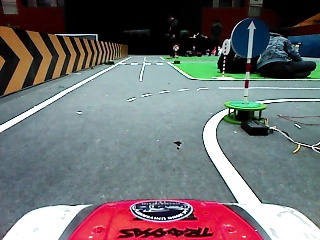straight: (229, 17, 271, 57)
